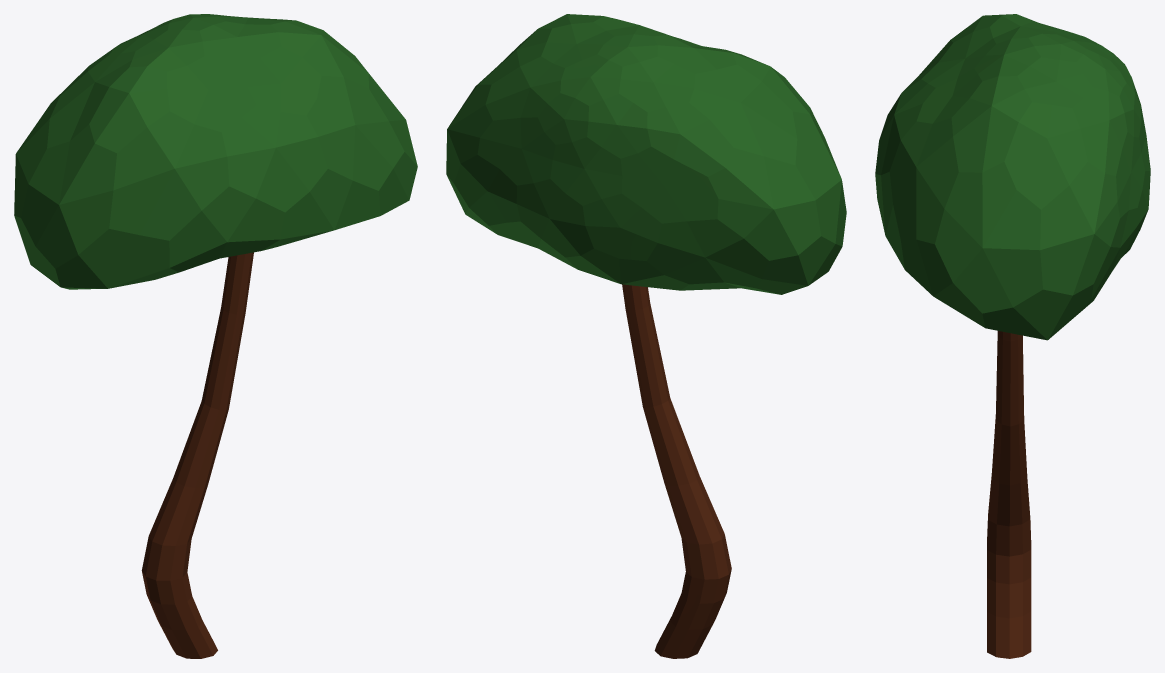
File: Tree1.obj
3 renders of one model, left to right at view 1: azimuth 30°, elevation 25°; view 2: azimuth 150°, elevation 25°; view 3: azimuth 270°, elevation 25°, orthographic.
Visible parts, largest first — view 1: Tree1_Cylinder.008; view 2: Tree1_Cylinder.008; view 3: Tree1_Cylinder.008.
Part boxes in pixels (left/top/right/bottom): Tree1_Cylinder.008: left=14, top=14, right=417, bottom=658; Tree1_Cylinder.008: left=446, top=14, right=846, bottom=658; Tree1_Cylinder.008: left=875, top=14, right=1150, bottom=658.
Bounding box in the file's own units: 3.3 × 5.31 × 2.14.
